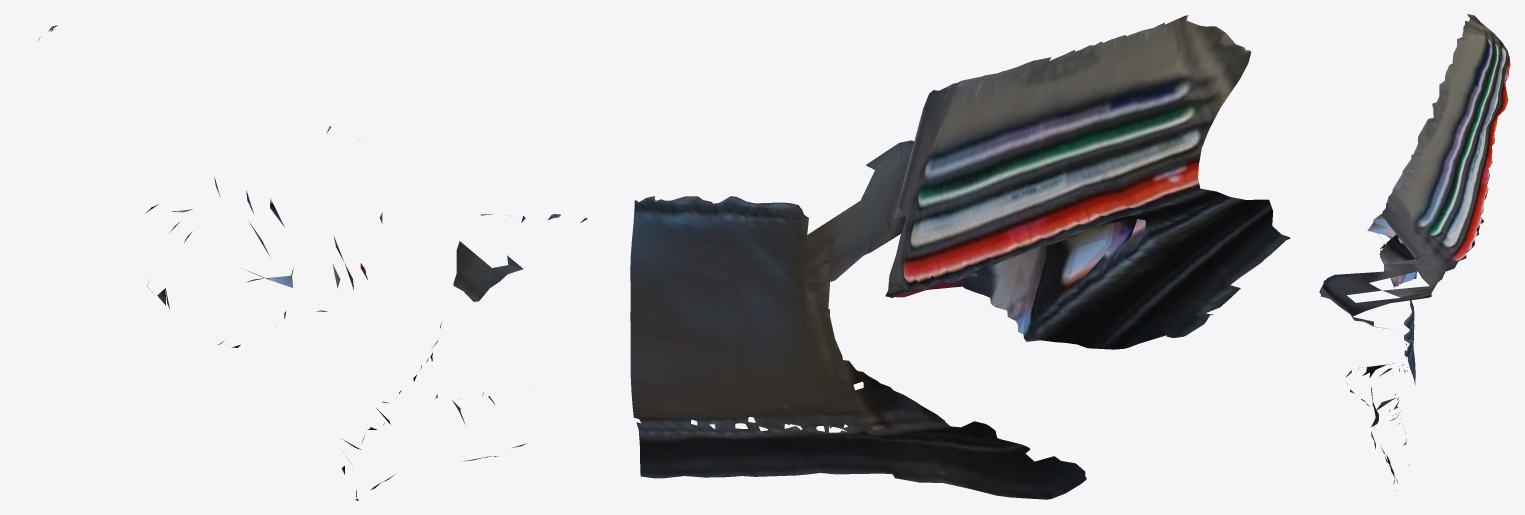
The model's file is observed-surface.glb.
3 renders of one model, left to right at view 1: azimuth 30°, elevation 25°; view 2: azimuth 150°, elevation 25°; view 3: azimuth 270°, elevation 25°, orthographic. The views are drawn at different scales.
Visible parts, largest first — view 1: geometry_0; view 2: geometry_0; view 3: geometry_0.
Boxes of the visible parts, left/top/right/bottom form: geometry_0: left=38, top=25, right=587, bottom=500; geometry_0: left=630, top=15, right=1290, bottom=499; geometry_0: left=1319, top=14, right=1510, bottom=491.
Size of the model in its own units: 0.5198 by 0.4704 by 0.2468.
Materials: 1 (1 with a texture image).
